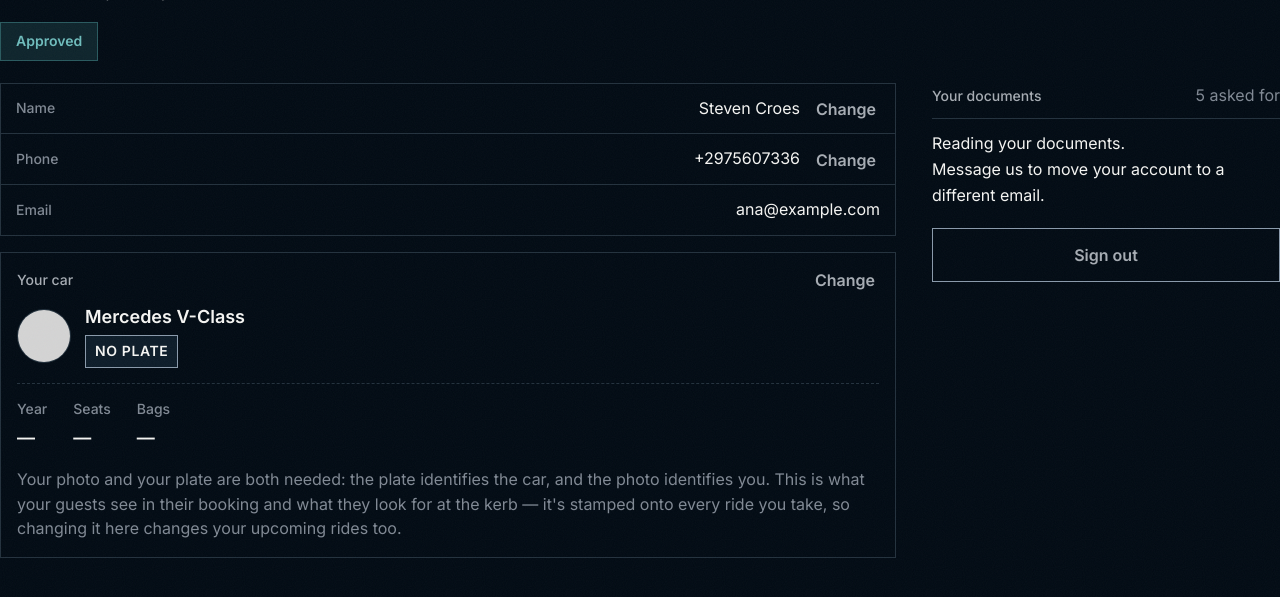
Test: Profile › won't save a car with no plate
Step 1. Click the button "Change" in the row of "Your car" → [845, 280], box [811, 258, 879, 302]
(page scrolled)
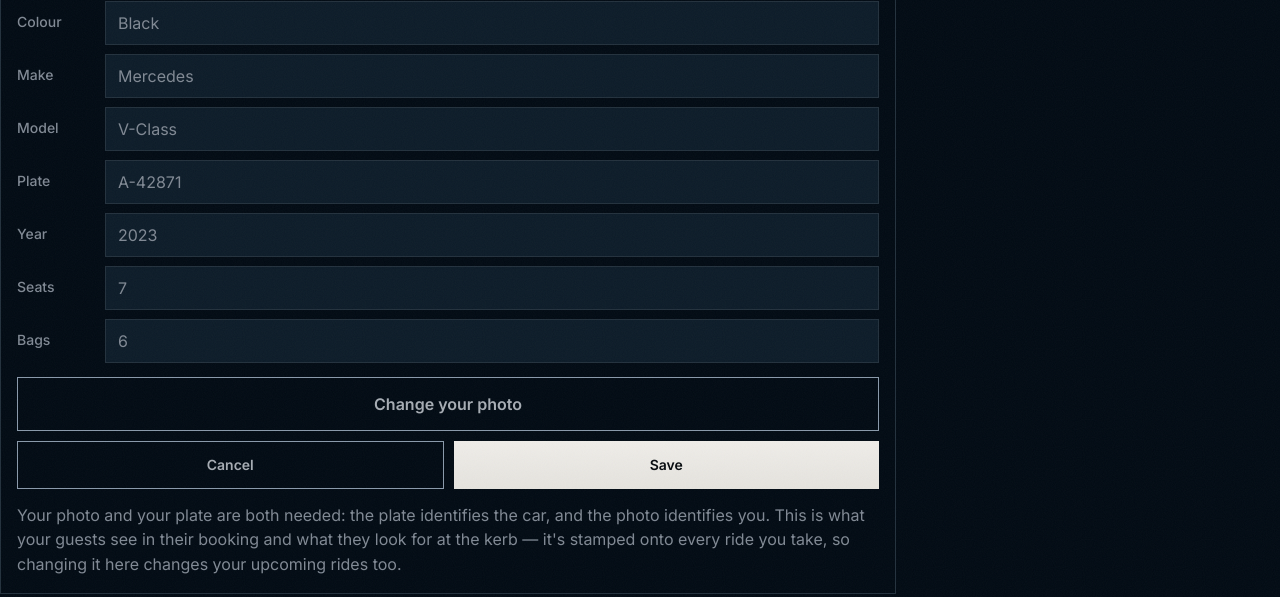
Step 2. Click the button "Save" → [666, 465], box [454, 441, 879, 489]
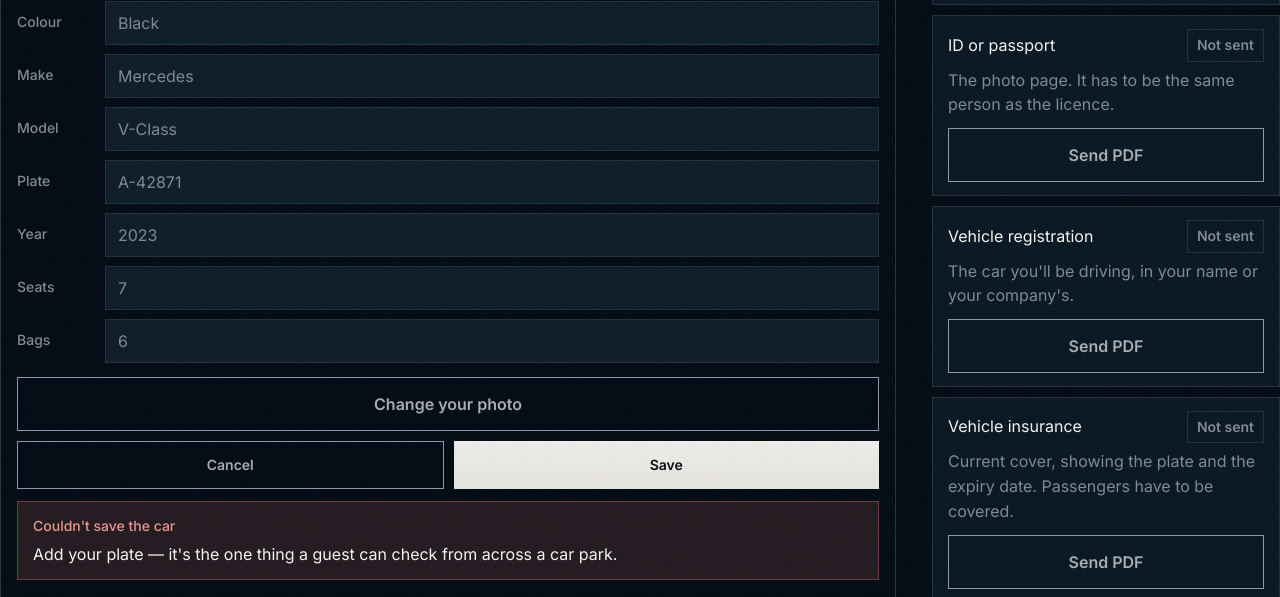
Check: the message shows "Add your plate", box [33, 544, 617, 564]
